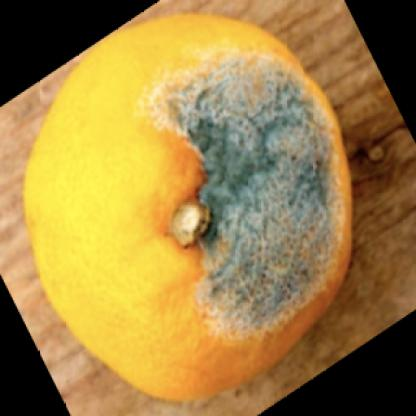rotten: (28, 15, 353, 395)
